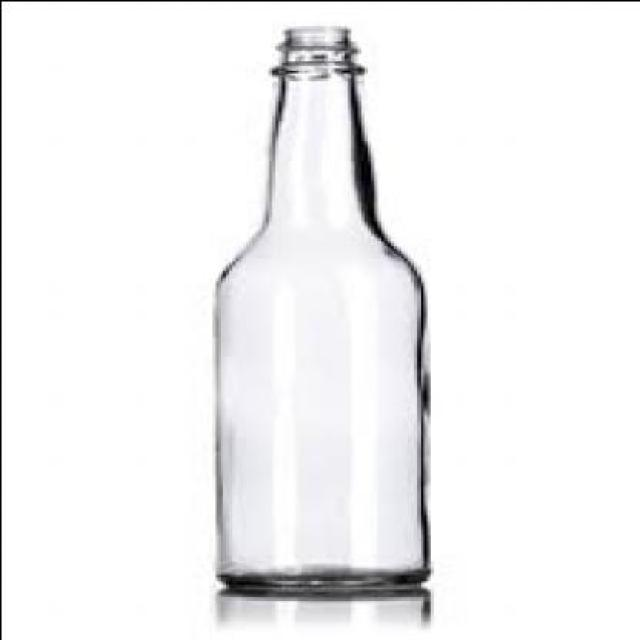GLASS: (217, 25, 428, 588)
